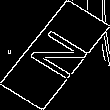N_SE: (18, 24, 92, 86)
